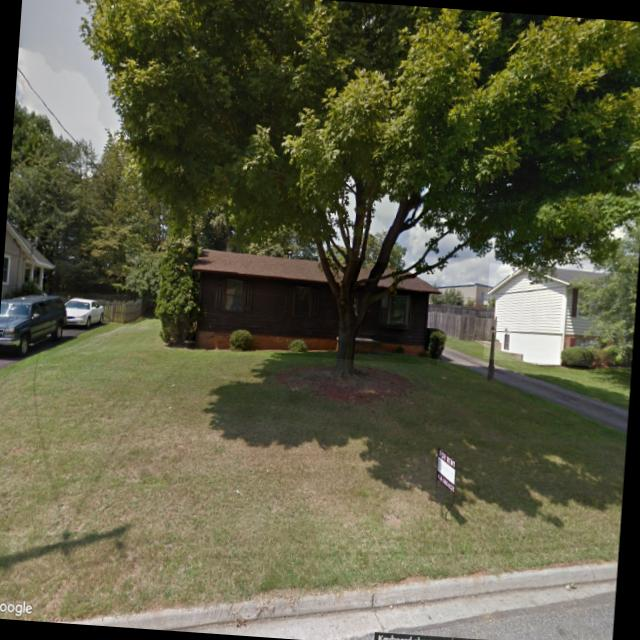House: (187, 249, 443, 365), (483, 262, 637, 368), (1, 218, 56, 306)
